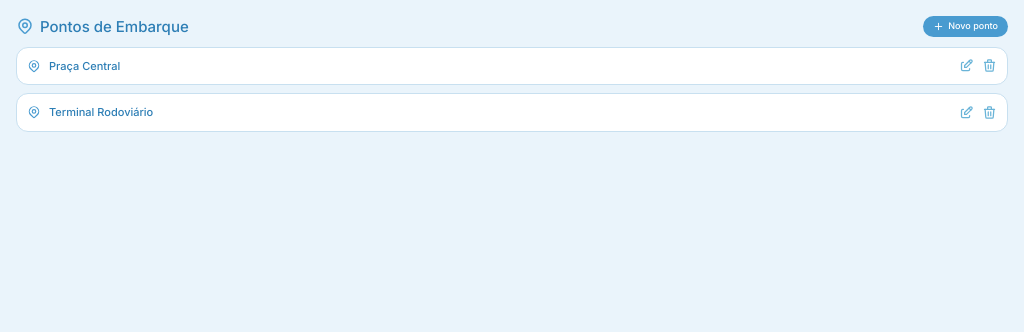
Test case: PontosPage — adicionar › fecha formulário após adicionar com sucesso
This screenshot has width=1024, height=332.
Click the button "Novo ponto" at point(966, 26), box [923,16,1008,37]
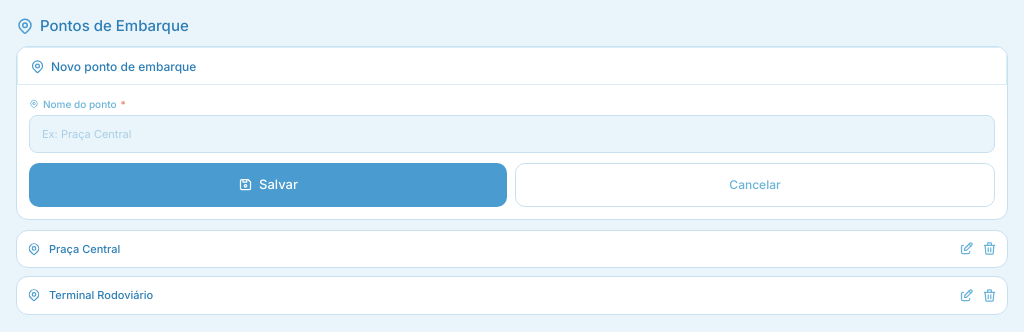
Type "Nova Parada" into the field with test id "input-nome" at point(512, 134), box [29,114,995,153]
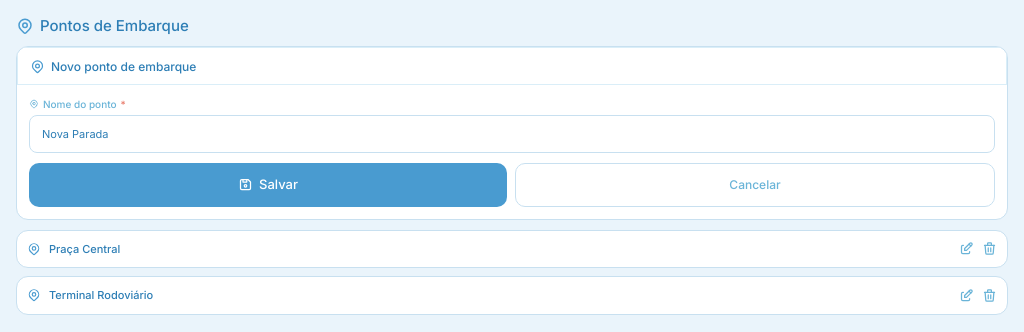
Submit the form with test id "form-adicionar", box [17,84,1007,218]
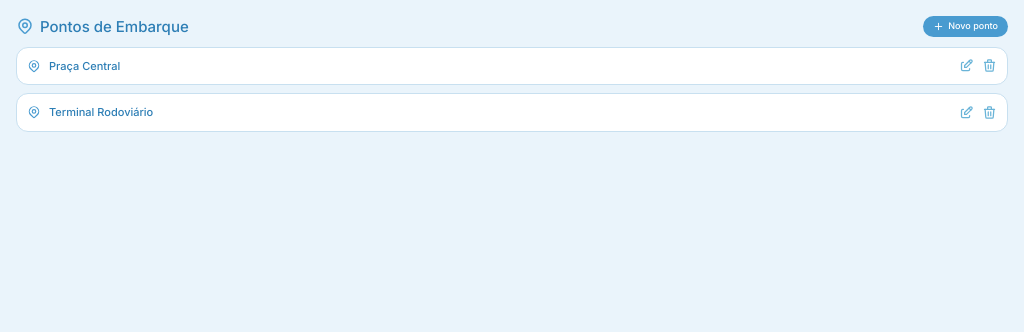
Now the form with test id "form-adicionar" is gone
